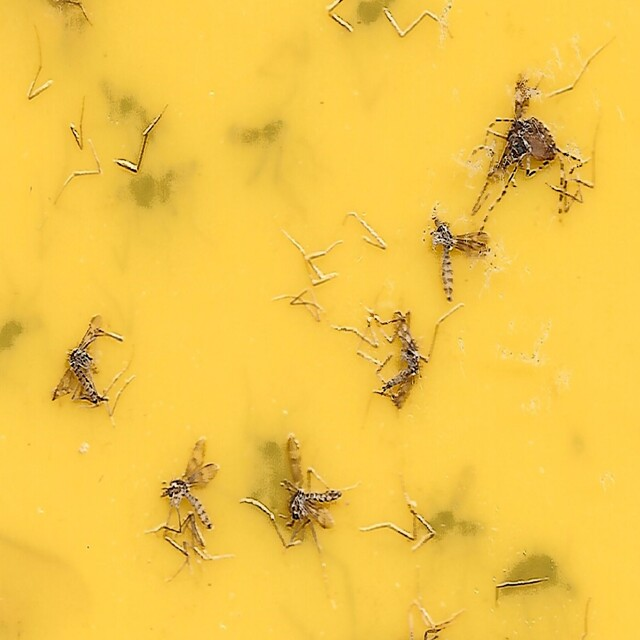Nematocera: (472, 72, 589, 224), (160, 438, 219, 568), (282, 433, 341, 550), (51, 312, 114, 413), (428, 209, 490, 309), (379, 310, 421, 412)
